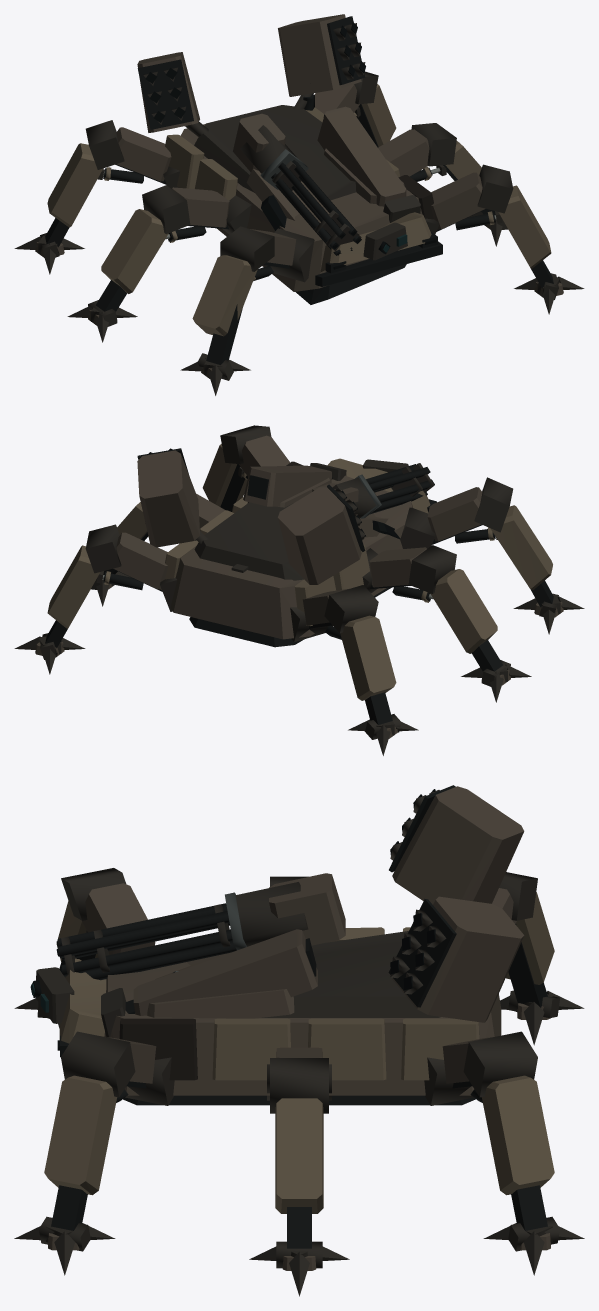
The picture shows the model from 3 angles, top to bottom: view 1: azimuth 30°, elevation 25°; view 2: azimuth 150°, elevation 25°; view 3: azimuth 270°, elevation 25°; orthographic projection. The views are drawn at different scales.
Visible parts, largest first — view 1: MX06_STATIC; view 2: MX06_STATIC; view 3: MX06_STATIC.
Part boxes in pixels (x1,y1,x2,y2): MX06_STATIC: [14, 14, 584, 395]; MX06_STATIC: [14, 425, 584, 755]; MX06_STATIC: [14, 785, 584, 1296].
Size of the model in its own units: 6.98 by 3.04 by 5.45.
